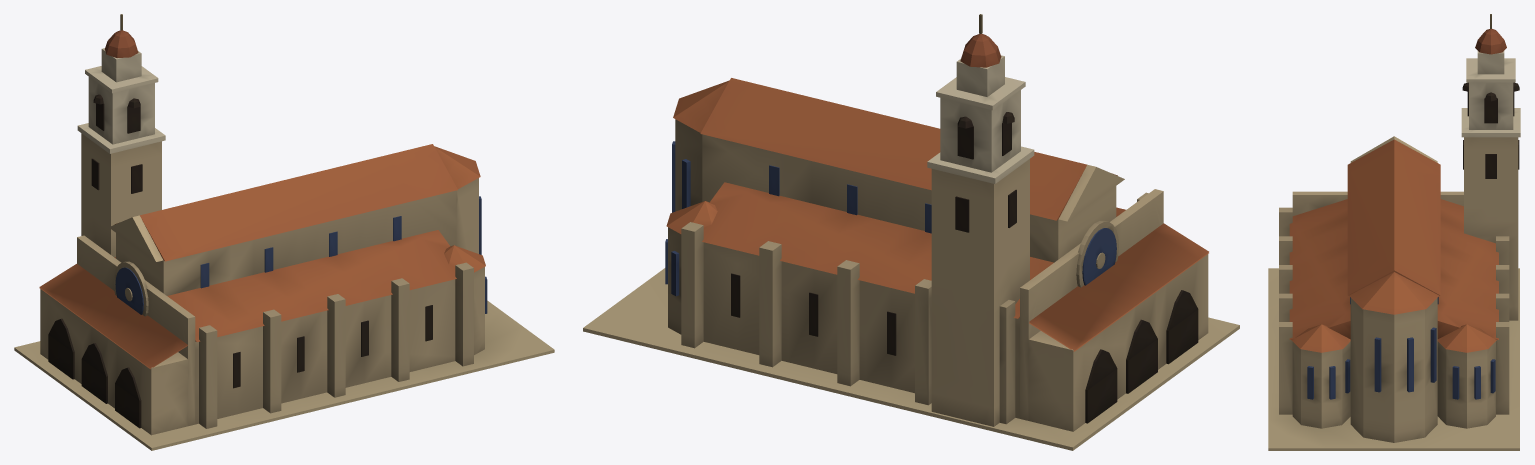
File: san-lorenzo-1600.glb
The picture shows the model from 3 angles, left to right: view 1: azimuth 30°, elevation 25°; view 2: azimuth 150°, elevation 25°; view 3: azimuth 270°, elevation 25°; orthographic projection. The views are drawn at different scales.
Parts seen in each view (by area): view 1: p1_church, p2_tower, p0_ground; view 2: p1_church, p2_tower, p0_ground; view 3: p1_church, p2_tower, p0_ground.
Part boxes in pixels (x1,y1,x2,y2): p1_church: [39, 144, 487, 435]; p2_tower: [77, 14, 165, 257]; p0_ground: [14, 300, 554, 450]; p1_church: [665, 78, 1208, 431]; p2_tower: [927, 14, 1034, 426]; p0_ground: [583, 268, 1239, 450]; p1_church: [1279, 136, 1509, 442]; p2_tower: [1461, 14, 1520, 320]; p0_ground: [1268, 268, 1519, 450].
Bounding box in the file's own units: 44 × 33.9 × 26.05.
